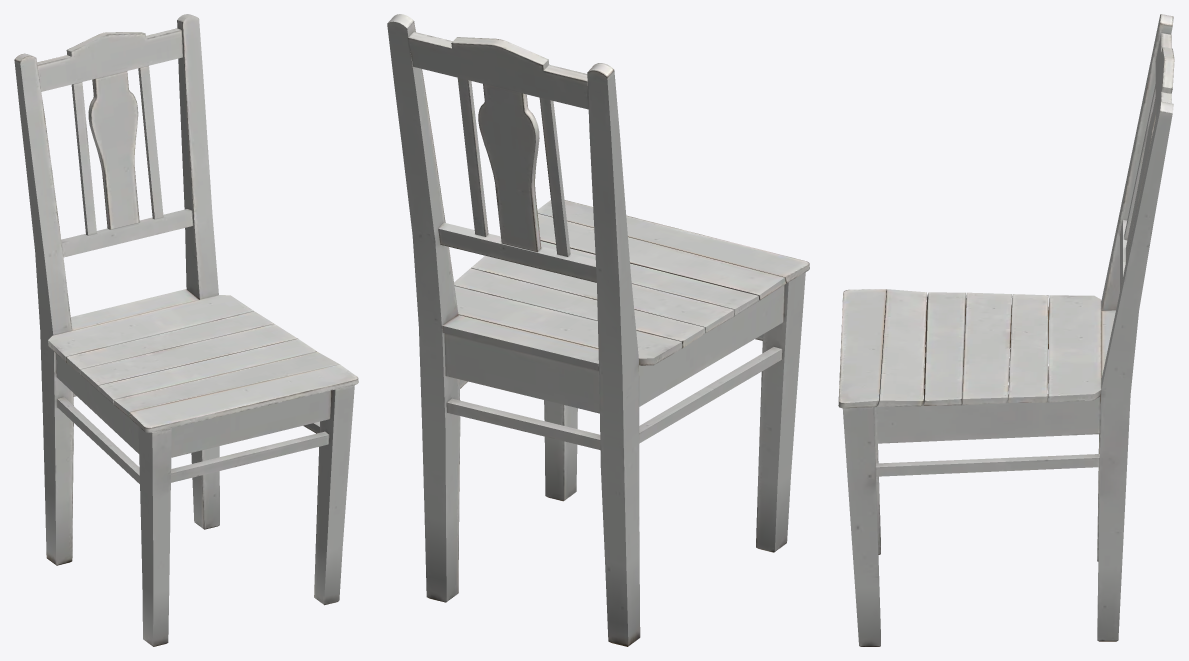
The model's file is painted-chair.glb.
The picture shows the model from 3 angles, left to right: view 1: azimuth 30°, elevation 25°; view 2: azimuth 150°, elevation 25°; view 3: azimuth 270°, elevation 25°; orthographic projection. The views are drawn at different scales.
Parts seen in each view (by area): view 1: painted_wooden_chair_01; view 2: painted_wooden_chair_01; view 3: painted_wooden_chair_01.
Part boxes in pixels (<box>): painted_wooden_chair_01: <box>14,14,358,646</box>; painted_wooden_chair_01: <box>387,14,809,646</box>; painted_wooden_chair_01: <box>838,14,1174,646</box>.
Size of the model in its own units: 0.4317 by 0.9565 by 0.5398.
1 material, 1 textured.
